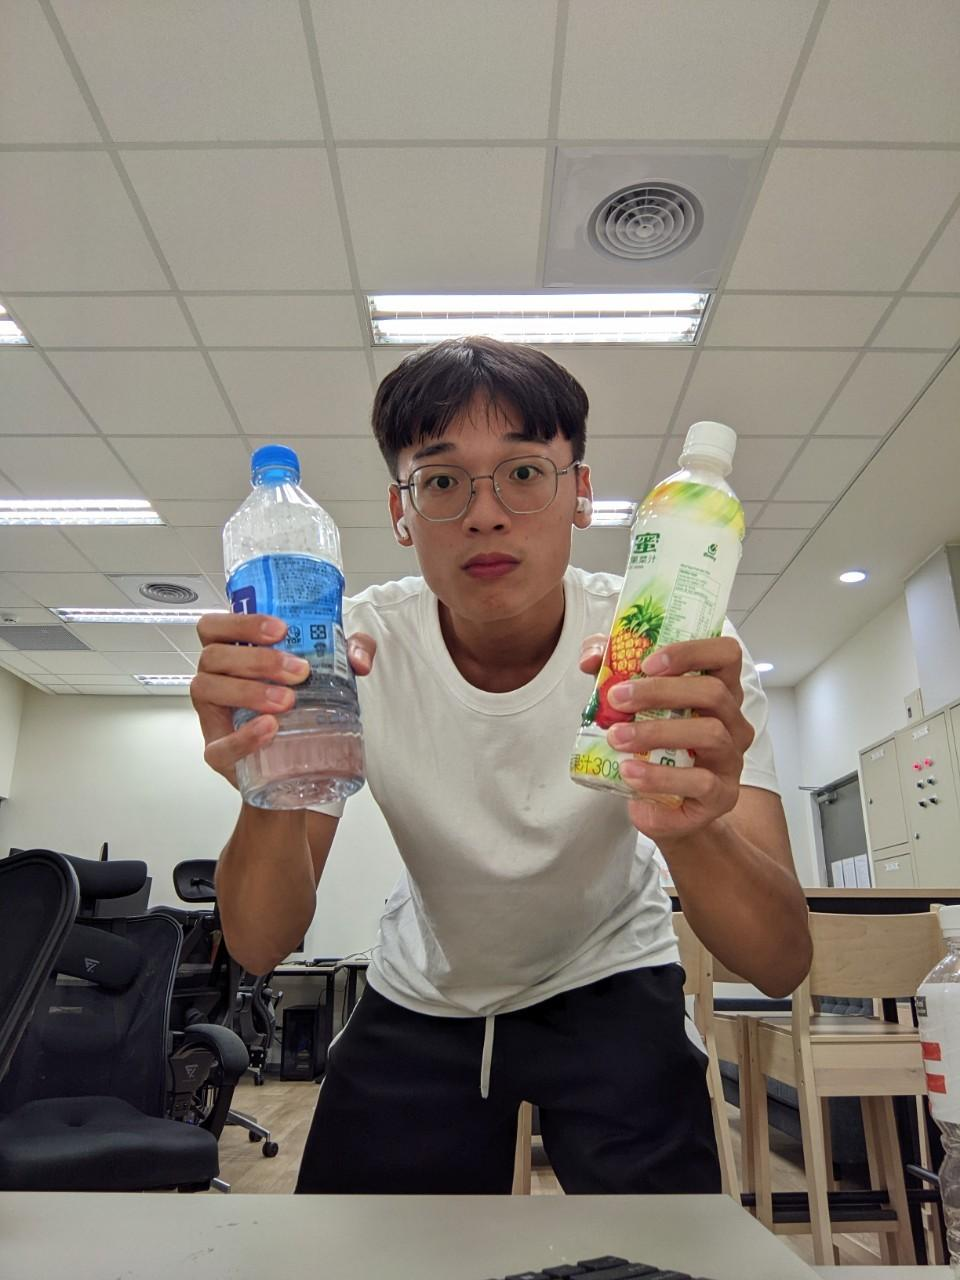BIODEGRADABLE: (203, 420, 383, 817), (578, 405, 749, 795)
